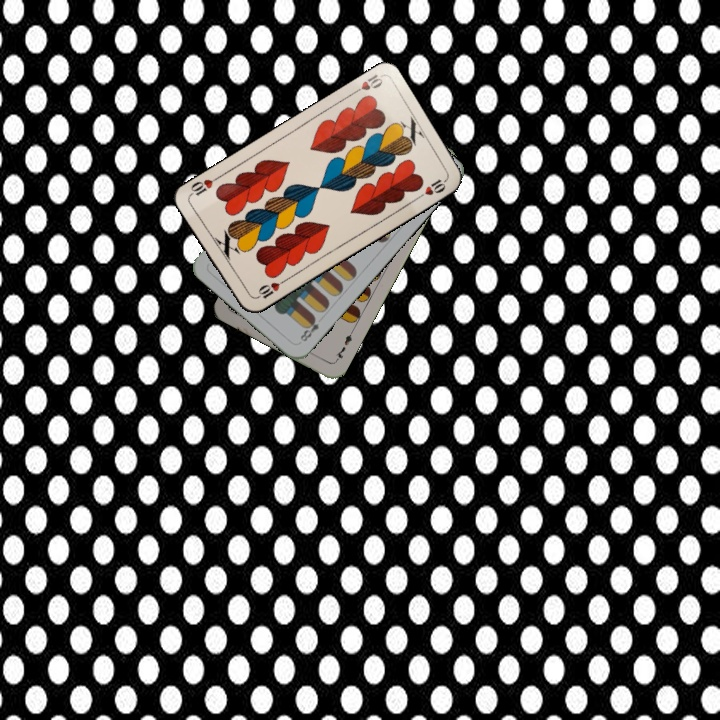E7: (331, 327, 356, 365)
E8: (296, 312, 322, 344)
H10: (347, 69, 385, 98), (251, 276, 288, 302)
